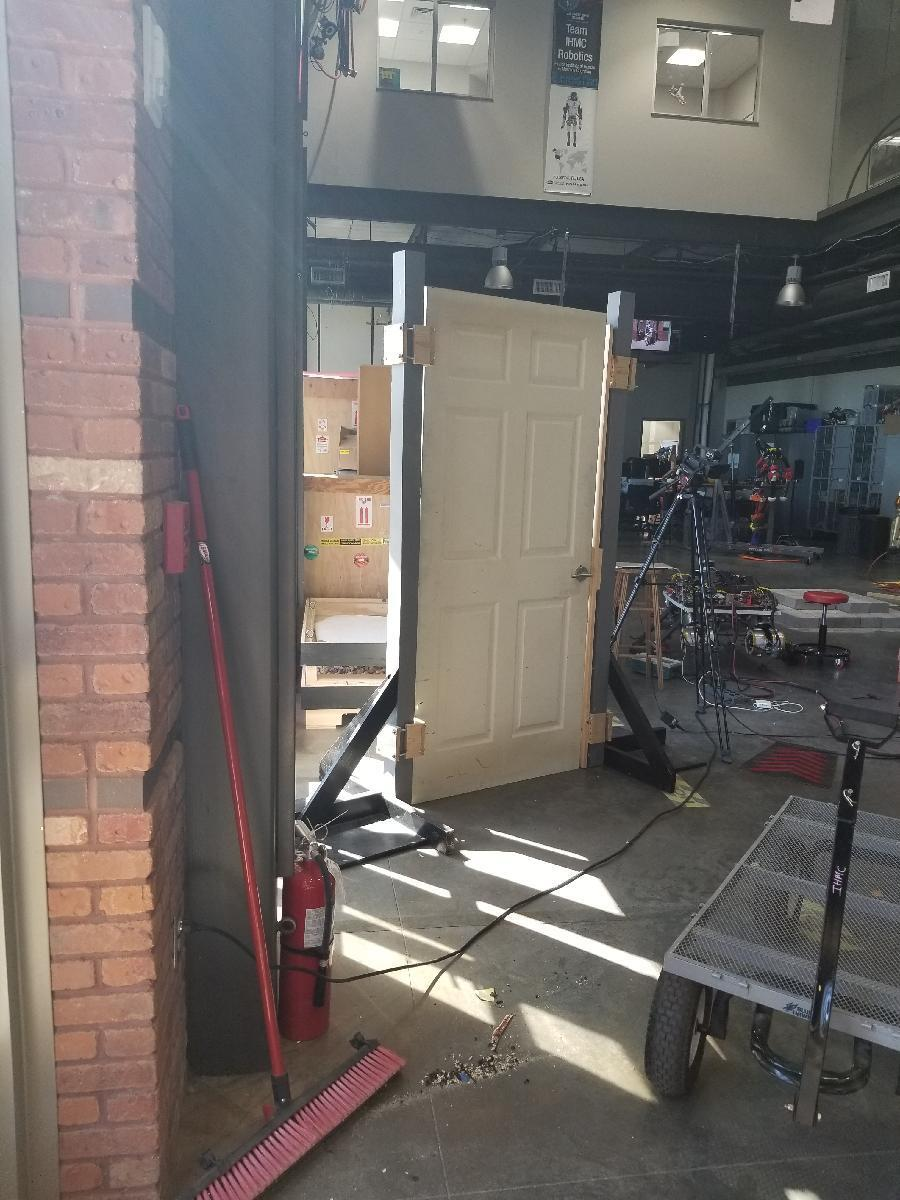door: (410, 281, 610, 802)
handle: (569, 563, 594, 585)
